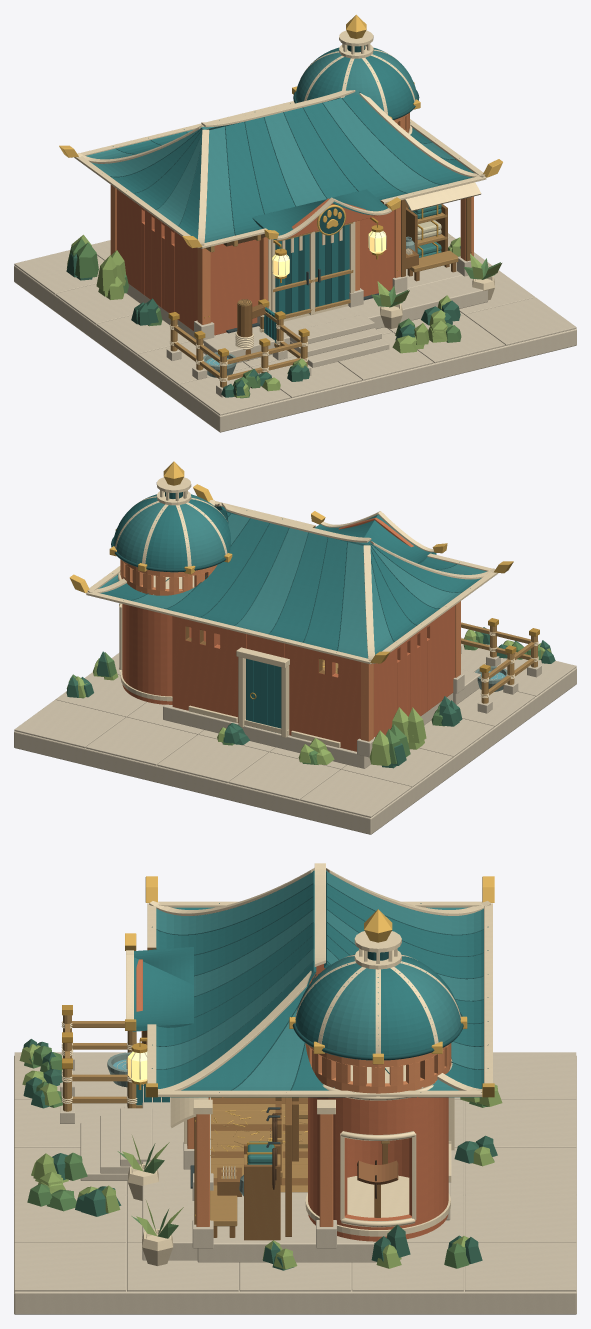
The model's file is beast.glb.
The picture shows the model from 3 angles, top to bottom: view 1: azimuth 30°, elevation 25°; view 2: azimuth 150°, elevation 25°; view 3: azimuth 270°, elevation 25°; orthographic projection. The views are drawn at different scales.
Visible parts, largest first — view 1: BZbatch_0.003, BZbatch_25.003, BZbatch_24.003, BZbatch_7.003, BZbatch_27.003, BZbatch_6.003, BZbatch_2.003, BZbatch_12.003, BZbatch_4.003, BZbatch_87.003, BZbatch_59.003, BZbatch_38.003 (+28 smaller); view 2: BZbatch_0.003, BZbatch_25.003, BZbatch_6.003, BZbatch_24.003, BZbatch_7.003, BZbatch_27.003, BZbatch_19.003, BZbatch_35.003, BZbatch_38.003, BZbatch_1.003, BZbatch_87.003, BZbatch_9.003 (+15 smaller); view 3: BZbatch_0.003, BZbatch_25.003, BZbatch_24.003, BZbatch_19.003, BZbatch_27.003, BZbatch_35.003, BZbatch_38.003, BZbatch_2.003, BZbatch_3.003, BZbatch_100.003, BZbatch_21.003, BZbatch_4.003 (+26 smaller).
Boxes of the visible parts, x1=… form: BZbatch_0.003: x1=14, y1=233, x2=576, y2=432; BZbatch_25.003: x1=111, y1=94, x2=473, y2=238; BZbatch_24.003: x1=86, y1=98, x2=454, y2=248; BZbatch_7.003: x1=116, y1=189, x2=197, y2=330; BZbatch_27.003: x1=74, y1=90, x2=486, y2=248; BZbatch_6.003: x1=210, y1=210, x2=394, y2=335; BZbatch_2.003: x1=203, y1=275, x2=487, y2=363; BZbatch_12.003: x1=110, y1=185, x2=473, y2=324; BZbatch_4.003: x1=286, y1=314, x2=389, y2=367; BZbatch_87.003: x1=67, y1=234, x2=460, y2=397; BZbatch_59.003: x1=170, y1=307, x2=307, y2=387; BZbatch_38.003: x1=306, y1=47, x2=413, y2=117; BZbatch_0.003: x1=14, y1=637, x2=576, y2=834; BZbatch_25.003: x1=100, y1=506, x2=481, y2=650; BZbatch_6.003: x1=172, y1=616, x2=360, y2=751; BZbatch_24.003: x1=98, y1=513, x2=486, y2=658; BZbatch_7.003: x1=374, y1=605, x2=454, y2=737; BZbatch_27.003: x1=86, y1=500, x2=498, y2=664; BZbatch_19.003: x1=122, y1=604, x2=220, y2=704; BZbatch_35.003: x1=116, y1=494, x2=225, y2=566; BZbatch_38.003: x1=113, y1=497, x2=231, y2=568; BZbatch_1.003: x1=163, y1=693, x2=452, y2=768; BZbatch_87.003: x1=75, y1=629, x2=551, y2=765; BZbatch_9.003: x1=188, y1=647, x2=340, y2=747; BZbatch_0.003: x1=14, y1=1052, x2=576, y2=1314; BZbatch_25.003: x1=151, y1=870, x2=483, y2=1097; BZbatch_24.003: x1=156, y1=870, x2=483, y2=1097; BZbatch_19.003: x1=308, y1=1097, x2=448, y2=1241; BZbatch_27.003: x1=147, y1=863, x2=492, y2=1096; BZbatch_35.003: x1=297, y1=954, x2=460, y2=1055; BZbatch_38.003: x1=295, y1=954, x2=459, y2=1055; BZbatch_2.003: x1=142, y1=1086, x2=197, y2=1260; BZbatch_3.003: x1=197, y1=1201, x2=376, y2=1262; BZbatch_100.003: x1=132, y1=947, x2=193, y2=1031; BZbatch_21.003: x1=305, y1=1043, x2=451, y2=1093; BZbatch_4.003: x1=80, y1=1108, x2=152, y2=1180.
Bounding box in the file's own units: 10 × 6.82 × 10.
23 materials, 11 textured.
